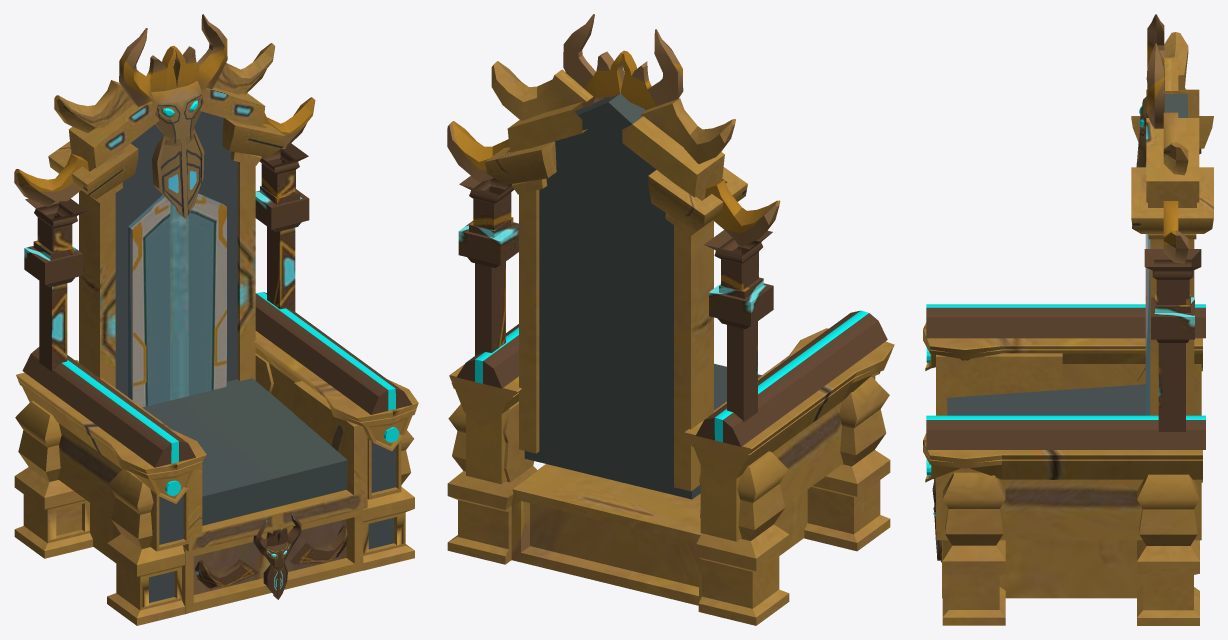
The model's file is throne.fbx.
3 views of the same model, side by side, from view 1: azimuth 30°, elevation 25°; view 2: azimuth 150°, elevation 25°; view 3: azimuth 270°, elevation 25° (orthographic). The views are drawn at different scales.
Parts seen in each view (by area): view 1: rt495; view 2: rt495; view 3: rt495.
Part boxes in pixels (bbox=[...]): rt495: bbox=[14, 14, 418, 625]; rt495: bbox=[447, 14, 894, 625]; rt495: bbox=[923, 14, 1213, 625].
Bounding box in the file's own units: 4.97 × 8.01 × 3.97.
